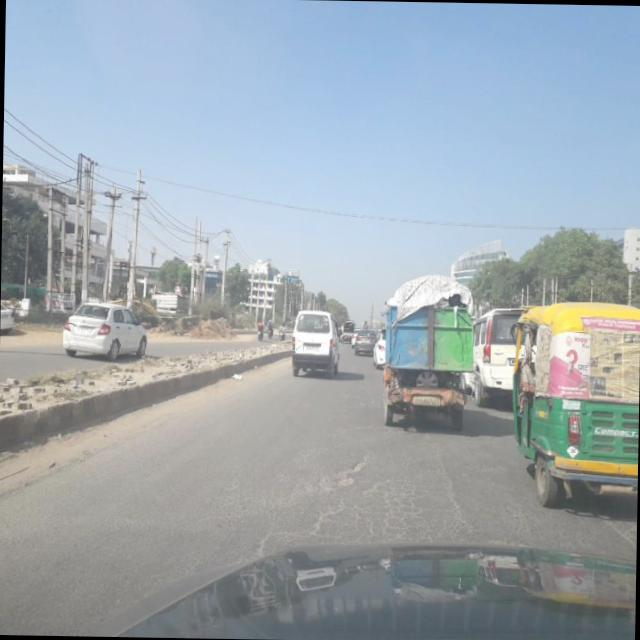crack: (104, 429, 522, 552)
